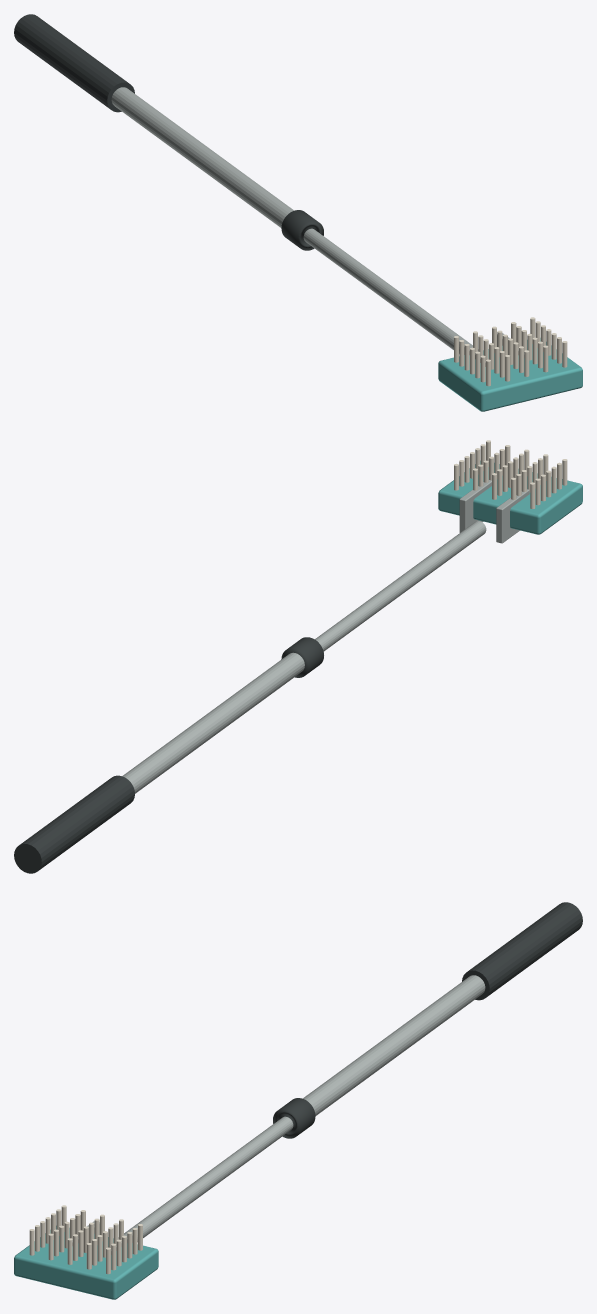
The model's file is indoor-climbing-and-bouldering-gym-indoor-climbing-and-95c4b142__31543.glb.
3 renders of one model, top to bottom at view 1: azimuth 30°, elevation 25°; view 2: azimuth 150°, elevation 25°; view 3: azimuth 330°, elevation 25°, orthographic.
Parts seen in each view (by area): view 1: indoor-climbing-and-bouldering-gym-long-reach-hold-brush; view 2: indoor-climbing-and-bouldering-gym-long-reach-hold-brush; view 3: indoor-climbing-and-bouldering-gym-long-reach-hold-brush.
Part boxes in pixels (x1=…): indoor-climbing-and-bouldering-gym-long-reach-hold-brush: x1=14, y1=14, x2=582, y2=411; indoor-climbing-and-bouldering-gym-long-reach-hold-brush: x1=14, y1=440, x2=582, y2=873; indoor-climbing-and-bouldering-gym-long-reach-hold-brush: x1=14, y1=902, x2=582, y2=1299.
Bounding box in the file's own units: 0.14 × 0.075 × 1.19.
